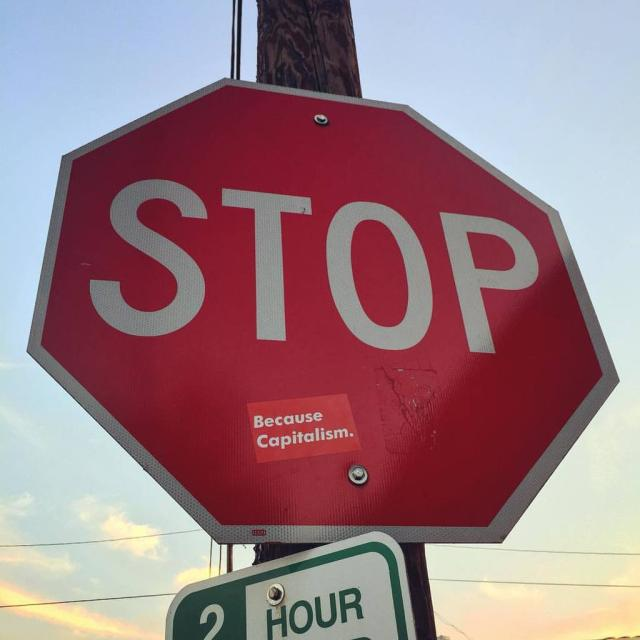Stop-sign: (24, 75, 622, 545)
